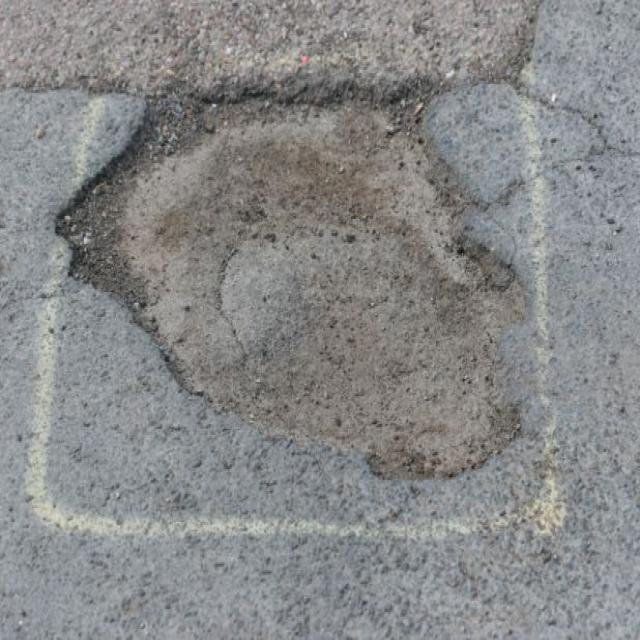pothole: (51, 62, 530, 485)
